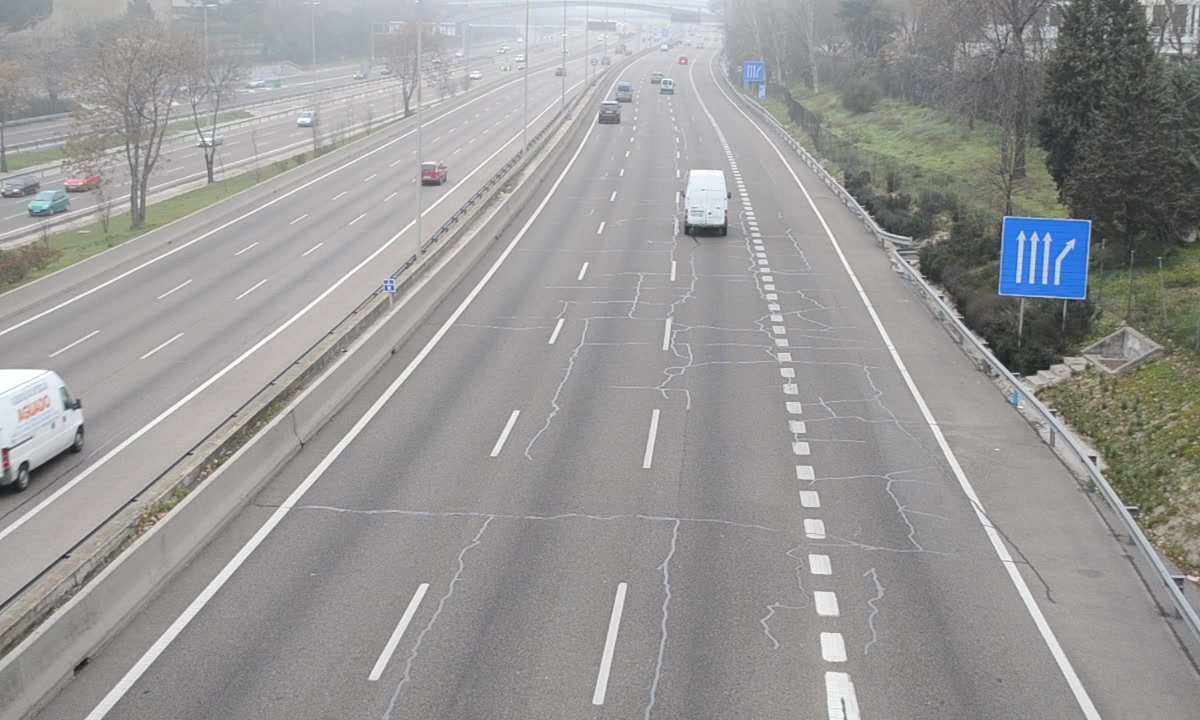car: (598, 101, 620, 124)
van: (685, 168, 730, 236)
